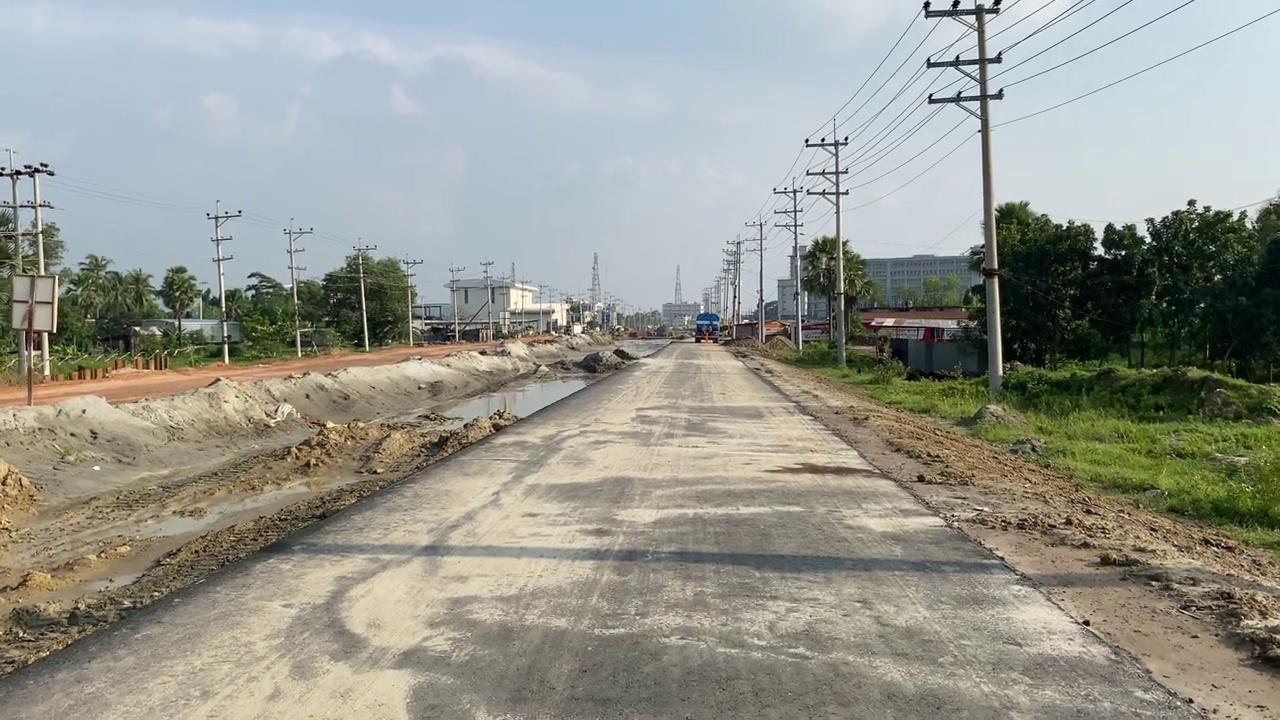Garbage: (1, 330, 643, 678)
Muddy road: (2, 334, 1257, 718)
Obstacle: (859, 306, 987, 378)
Pole: (923, 0, 1006, 398), (803, 119, 849, 366), (19, 161, 55, 381), (206, 199, 241, 364), (282, 219, 313, 357), (352, 240, 377, 352)
Rickshaw: (730, 343, 1279, 718)
Traffic-sign: (798, 233, 874, 360)
Tree: (693, 312, 720, 343)
